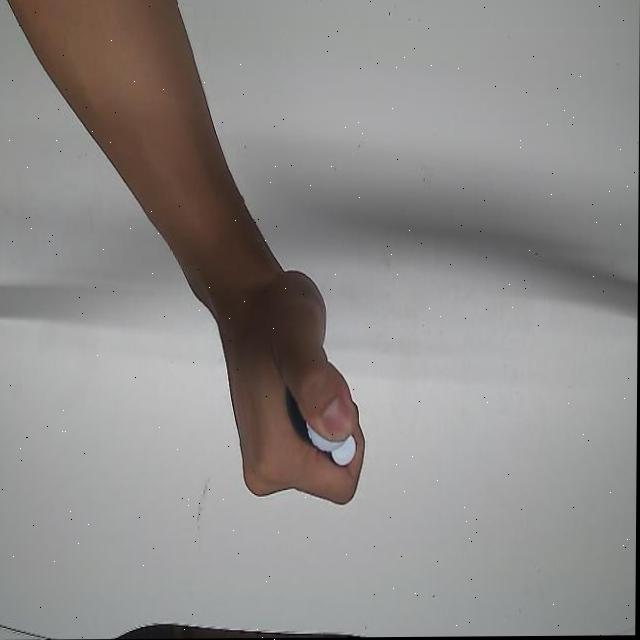Single Channel Pipettor: (300, 378, 362, 472)
